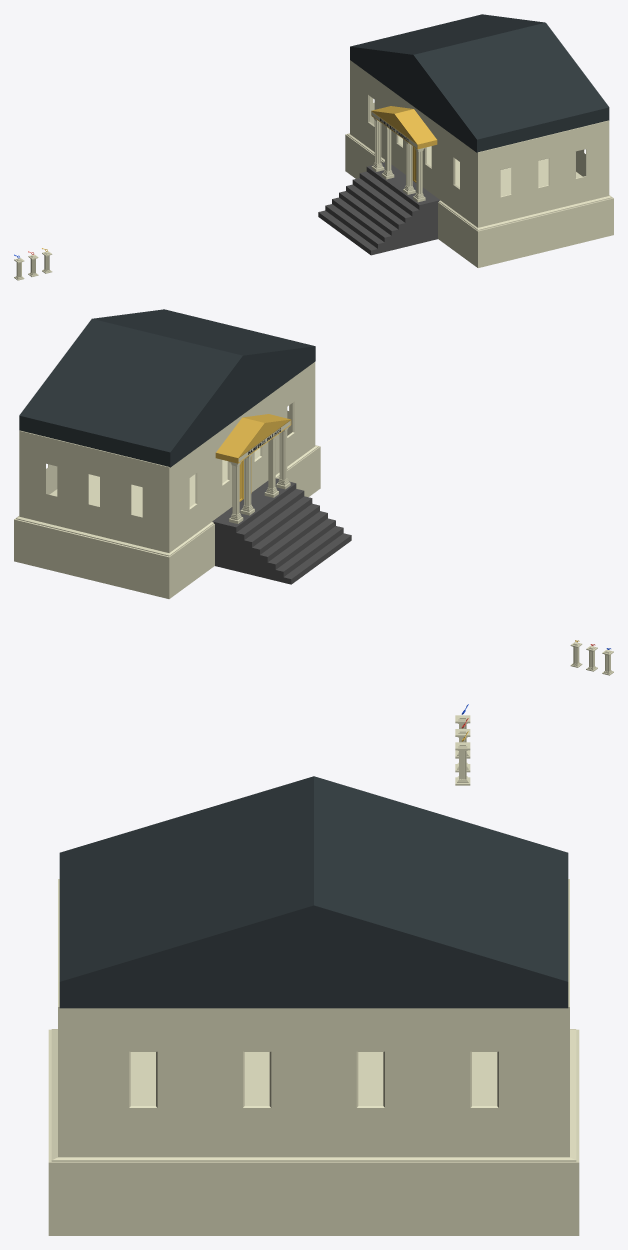
Rendered from assets.fbx.
3 renders of one model, top to bottom at view 1: azimuth 30°, elevation 25°; view 2: azimuth 150°, elevation 25°; view 3: azimuth 270°, elevation 25°, orthographic. The views are drawn at different scales.
Parts seen in each view (by area): view 1: Plane, Cube.002, Cube.001, Cube.005, Cube.006, Cube.009, Cube.004, Cube.008; view 2: Plane, Cube.002, Cube.001, Cube.005, Cube.009, Cube.006, Cube.004, Cube.008; view 3: Plane, Cube.002.
Part boxes in pixels (x1,y1,x2,y2): Plane: [345, 60, 613, 267]; Cube.002: [350, 14, 609, 152]; Cube.001: [318, 162, 440, 255]; Cube.005: [371, 106, 437, 149]; Cube.006: [371, 116, 384, 171]; Cube.009: [413, 146, 425, 202]; Cube.004: [381, 123, 394, 179]; Cube.008: [403, 139, 415, 194]; Plane: [14, 362, 320, 598]; Cube.002: [19, 309, 315, 467]; Cube.001: [212, 478, 351, 584]; Cube.005: [215, 414, 291, 463]; Cube.009: [276, 425, 290, 489]; Cube.006: [229, 460, 243, 523]; Cube.004: [240, 451, 254, 515]; Cube.008: [264, 434, 278, 497]; Plane: [48, 879, 579, 1235]; Cube.002: [59, 776, 568, 1008].
Size of what is drawn, in the model's own units: 21557 by 6843 by 10007.
